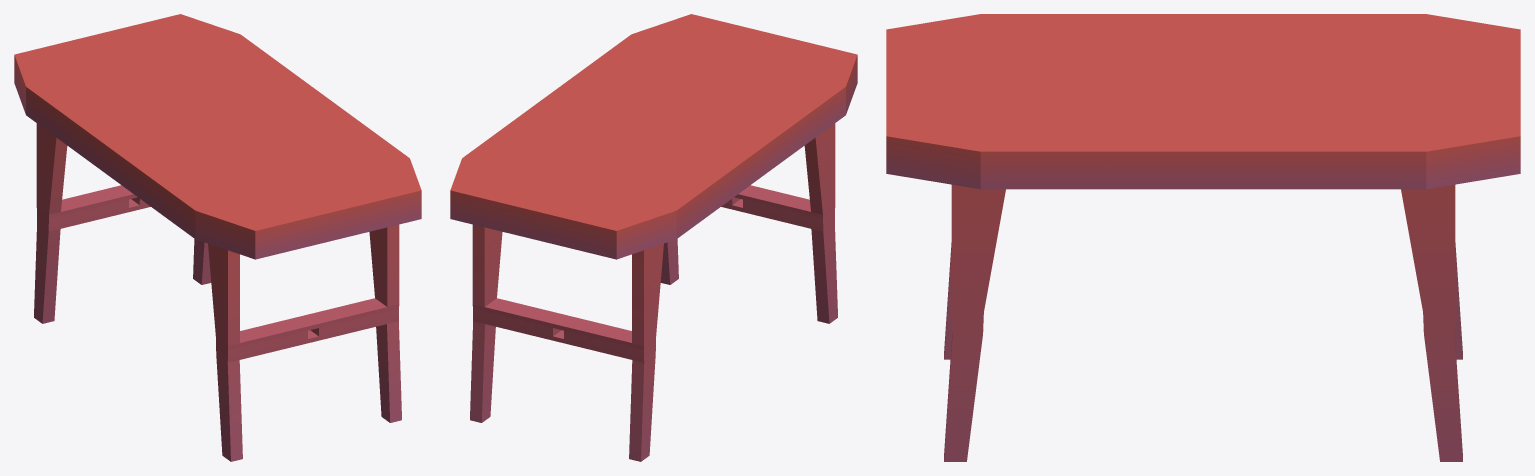
File: ItemProps_Table.fbx
3 renders of one model, left to right at view 1: azimuth 30°, elevation 25°; view 2: azimuth 150°, elevation 25°; view 3: azimuth 270°, elevation 25°, orthographic. The views are drawn at different scales.
Parts seen in each view (by area): view 1: Cylinder.010, Cube.016; view 2: Cylinder.010, Cube.016; view 3: Cylinder.010, Cube.016.
Part boxes in pixels (bbox=[...]): Cylinder.010: bbox=[14, 14, 421, 259]; Cube.016: bbox=[34, 123, 401, 461]; Cylinder.010: bbox=[450, 14, 857, 259]; Cube.016: bbox=[470, 123, 837, 461]; Cylinder.010: bbox=[886, 14, 1520, 189]; Cube.016: bbox=[944, 184, 1462, 461].
Bounding box in the file's own units: 115 × 127 × 224.
